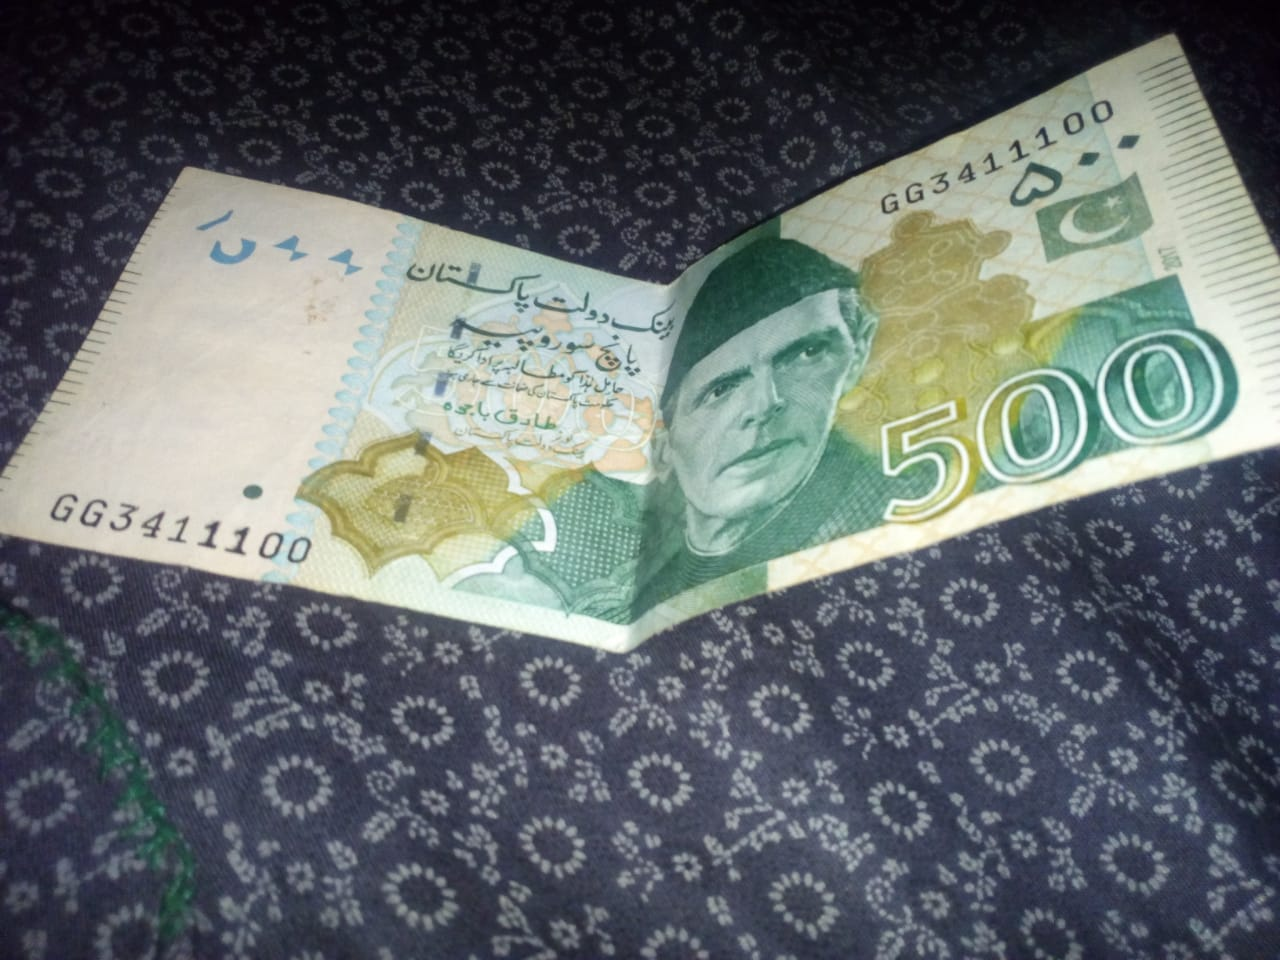500 rupee: (35, 49, 1267, 621)
